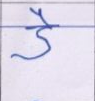ai_matra: (30, 7, 51, 25)
